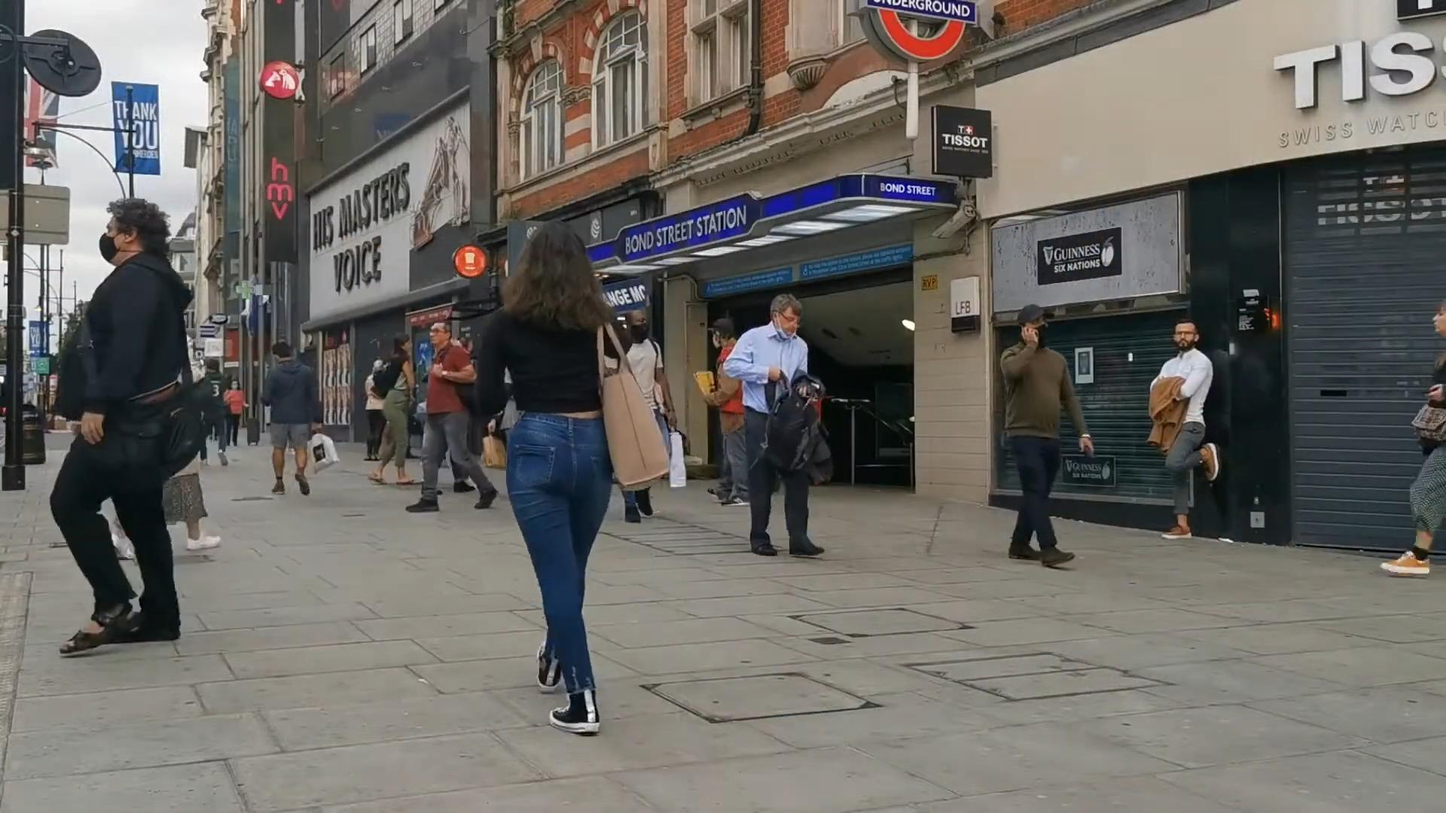no-helmet: (503, 222, 604, 311), (99, 196, 172, 268), (769, 294, 803, 341), (1018, 304, 1054, 345), (707, 318, 735, 349), (1172, 319, 1199, 351), (624, 308, 650, 341), (1433, 299, 1446, 340), (429, 322, 451, 346), (271, 341, 292, 362), (393, 333, 410, 355)
